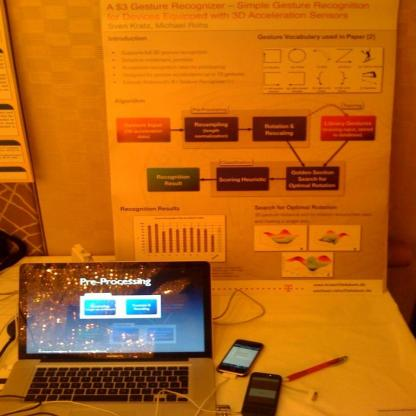board: (1, 259, 212, 416)
